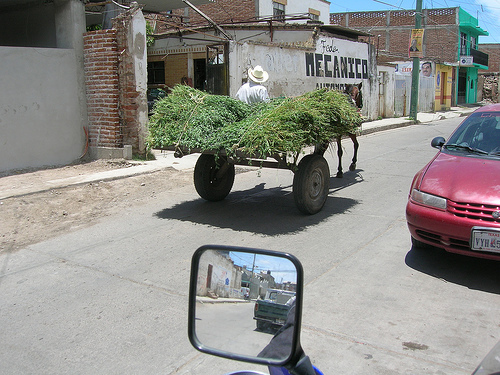horse: (329, 79, 366, 180)
